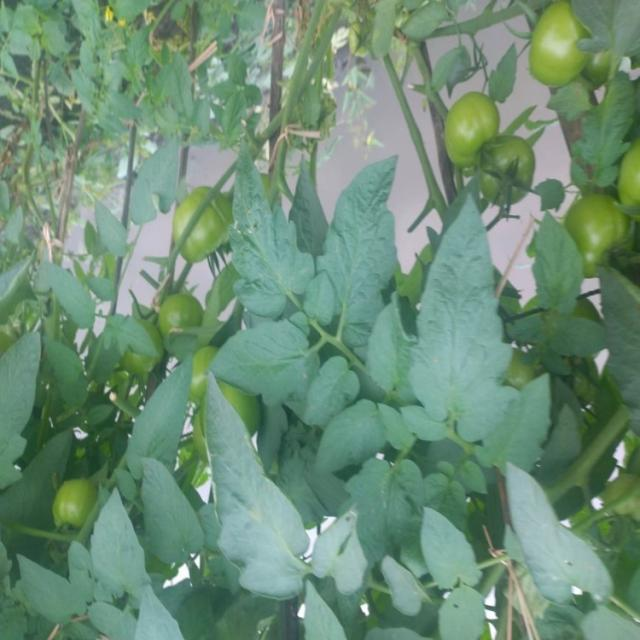tomato: (562, 181, 640, 278), (532, 1, 591, 111), (168, 183, 251, 259), (426, 85, 506, 163), (35, 457, 102, 539), (469, 125, 538, 204), (143, 290, 208, 341), (610, 137, 640, 226), (5, 301, 48, 334)
